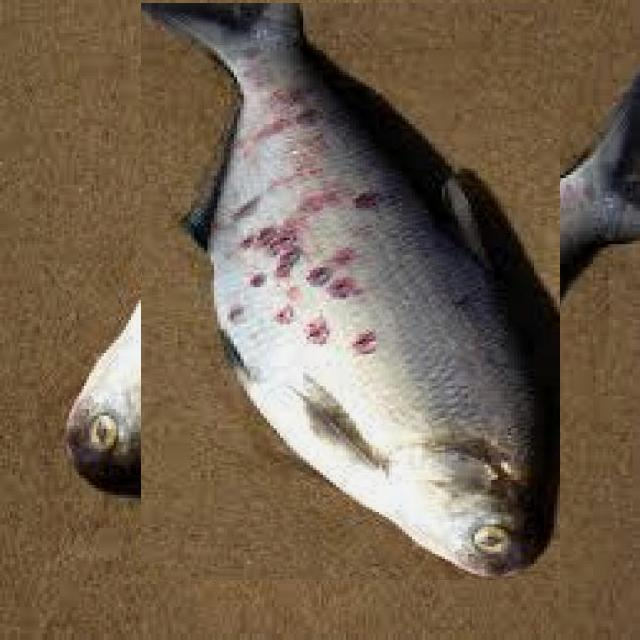EUS Disease: (102, 42, 600, 541), (278, 137, 609, 336)
